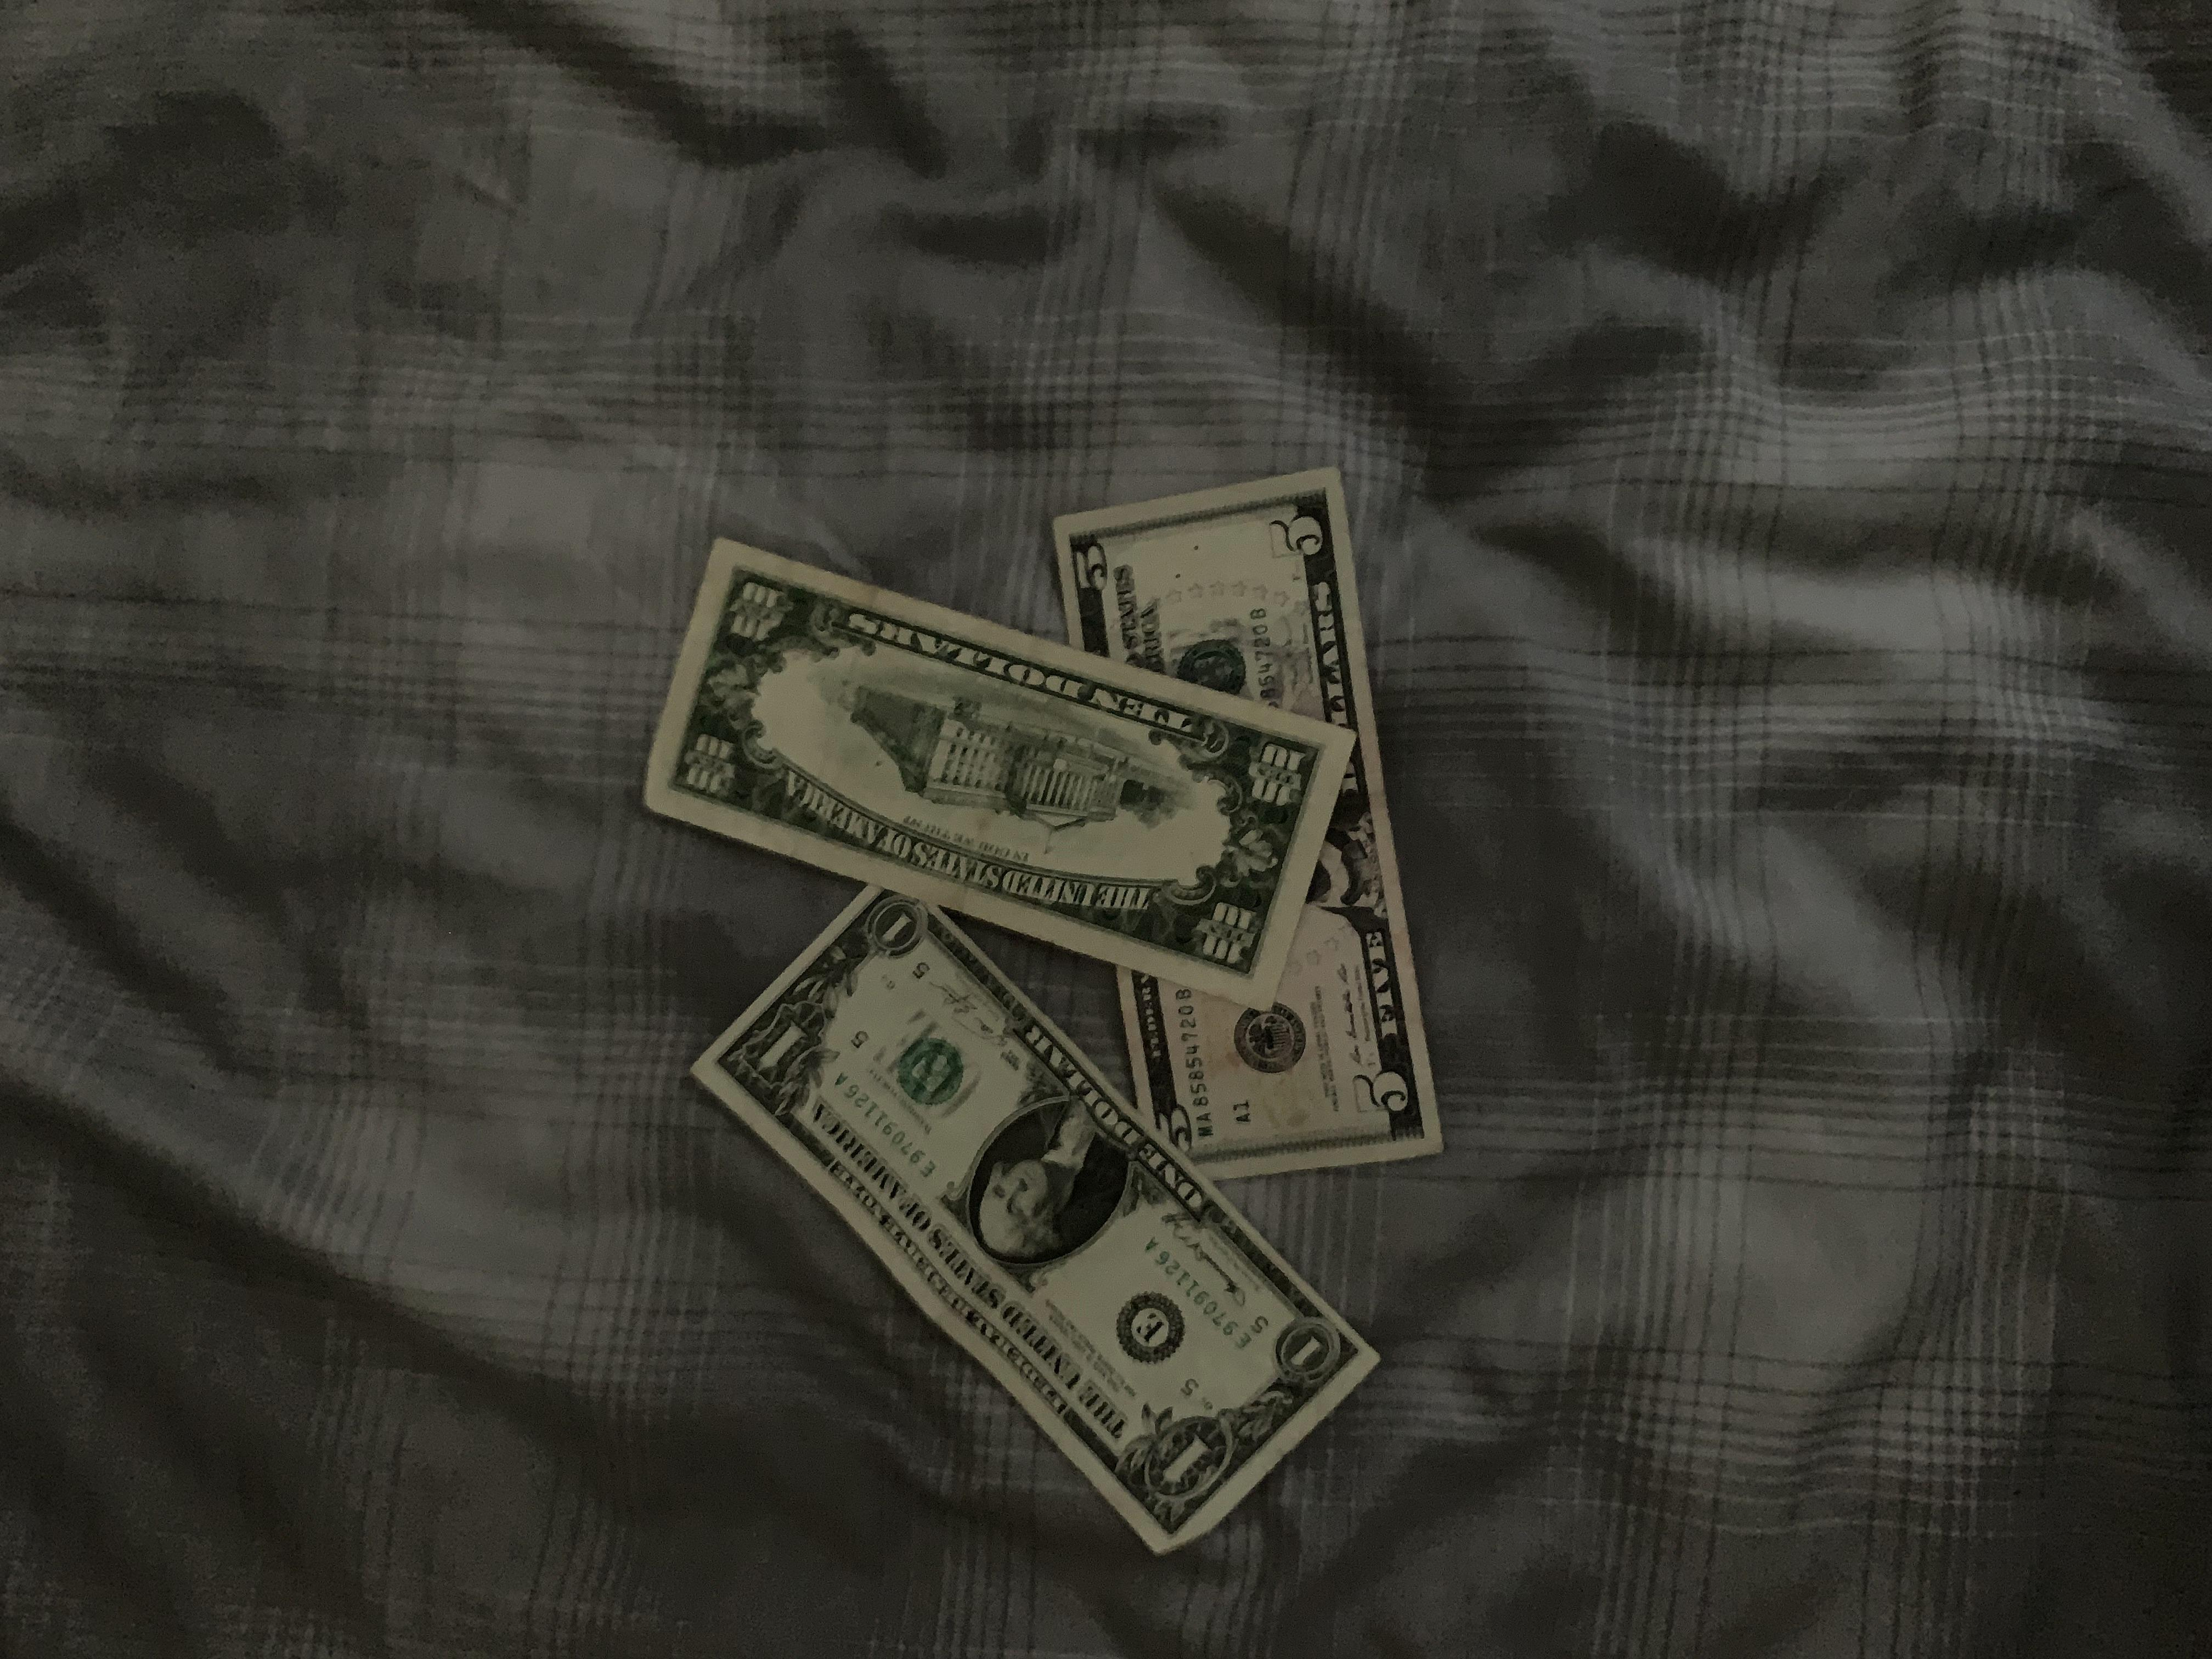FiveBill: (1045, 462, 1449, 1185)
OneBill: (679, 877, 1397, 1561)
TenBill: (629, 528, 1360, 1012)
